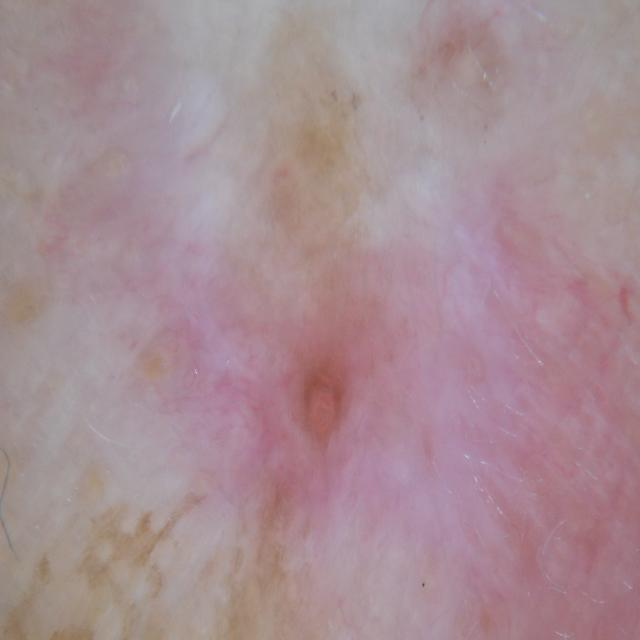Melanoma: (88, 190, 619, 640)
